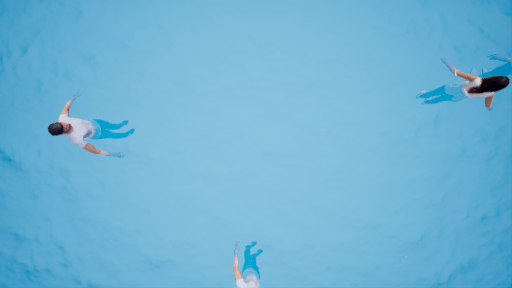person: (44, 91, 139, 161), (411, 53, 510, 115), (226, 235, 268, 288)
